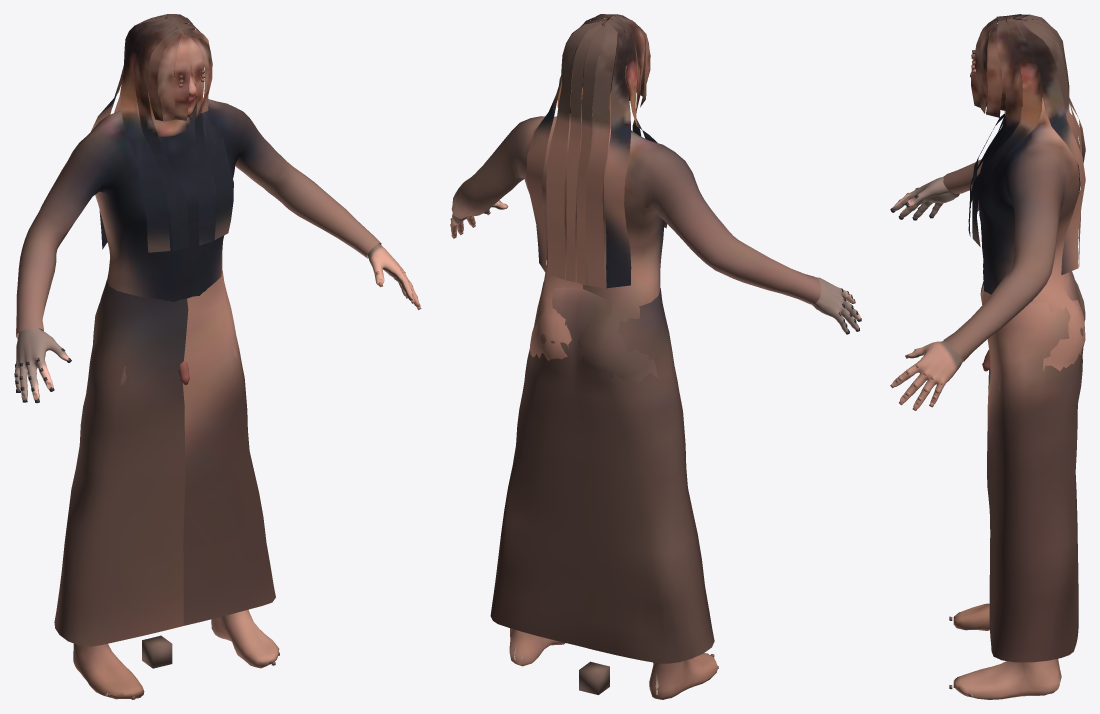
The model's file is khalil-head-v2.glb.
The picture shows the model from 3 angles, left to right: view 1: azimuth 30°, elevation 25°; view 2: azimuth 150°, elevation 25°; view 3: azimuth 270°, elevation 25°; orthographic projection.
Visible parts, largest first — view 1: Khalil_fit_v2; view 2: Khalil_fit_v2; view 3: Khalil_fit_v2.
Boxes of the visible parts, x1=… form: Khalil_fit_v2: x1=14, y1=14, x2=421, y2=699; Khalil_fit_v2: x1=450, y1=14, x2=861, y2=699; Khalil_fit_v2: x1=890, y1=14, x2=1085, y2=699.
Bounding box in the file's own units: 1.09 × 1.71 × 0.4675.
1 material, 1 textured.
